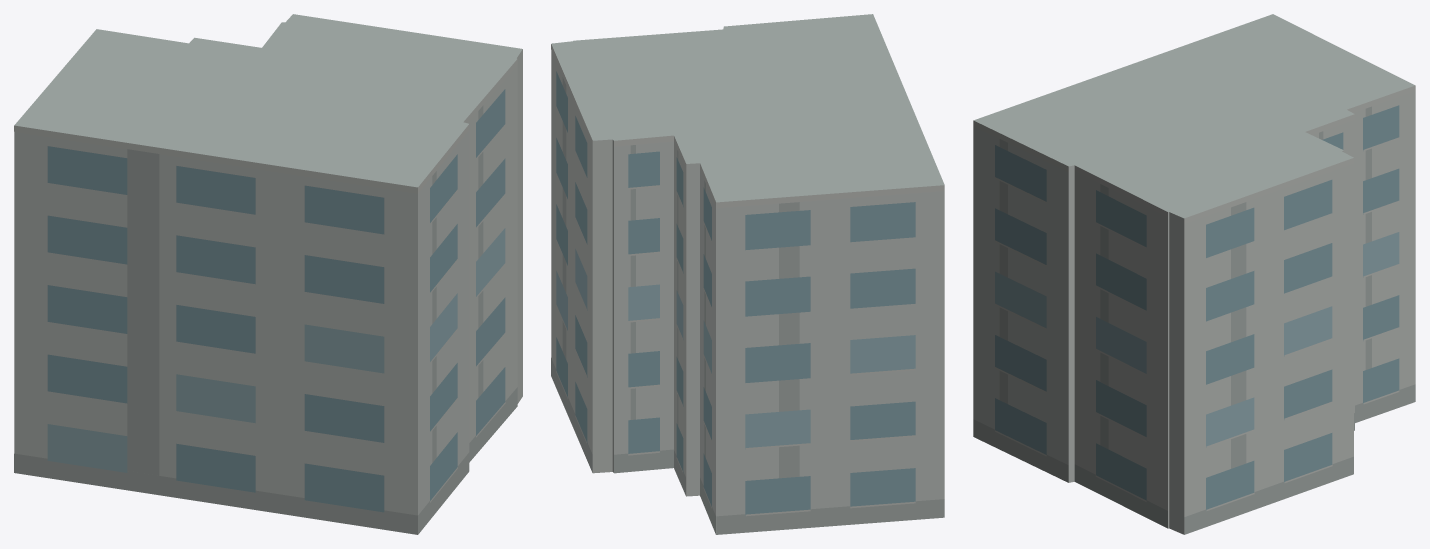
File: survey-upis-32832955.glb
The picture shows the model from 3 angles, left to right: view 1: azimuth 30°, elevation 25°; view 2: azimuth 150°, elevation 25°; view 3: azimuth 270°, elevation 25°; orthographic projection. The views are drawn at different scales.
Visible parts, largest first — view 1: survey-upis-32832955.tmp; view 2: survey-upis-32832955.tmp; view 3: survey-upis-32832955.tmp.
Part boxes in pixels (x1,y1,x2,y2): survey-upis-32832955.tmp: [14, 14, 522, 534]; survey-upis-32832955.tmp: [551, 14, 944, 534]; survey-upis-32832955.tmp: [973, 14, 1415, 534].
Size of the model in its own units: 18.78 by 13.55 by 17.17.
